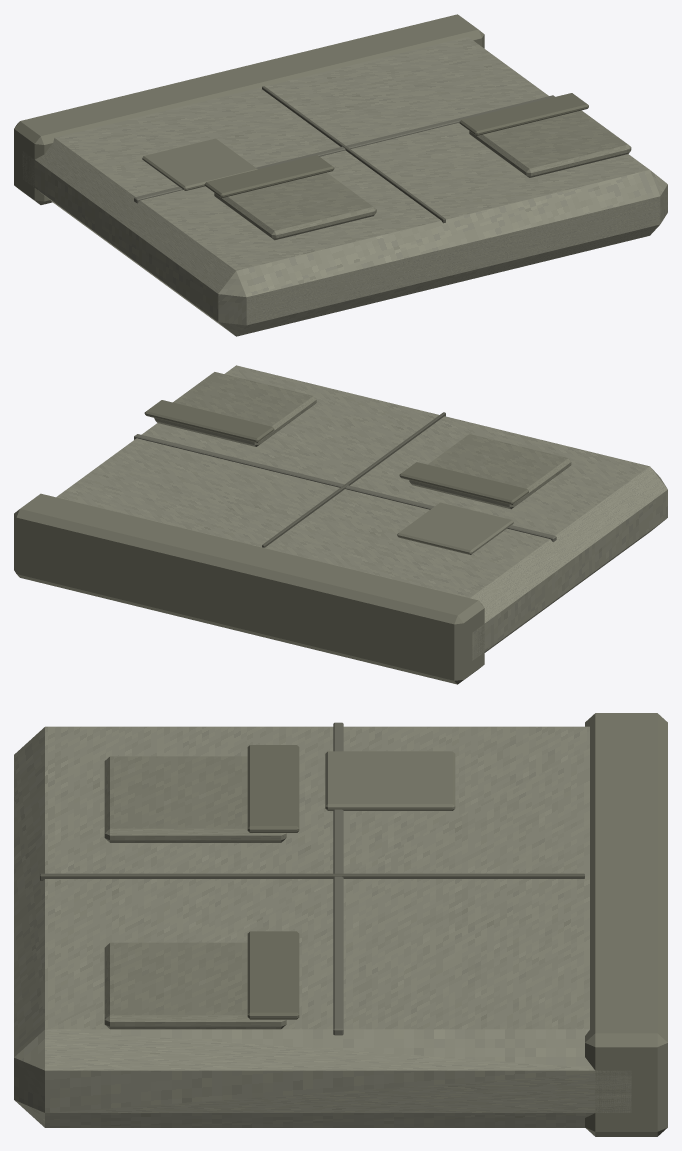
File: shorts_cargo.glb
3 renders of one model, top to bottom at view 1: azimuth 30°, elevation 25°; view 2: azimuth 150°, elevation 25°; view 3: azimuth 270°, elevation 25°, orthographic. The views are drawn at different scales.
Parts seen in each view (by area): view 1: block_body, block_waist, block_cargo-0.1, block_cargo0.07, block_pocket, block_flap-0.1, block_flap0.07, block_fold, block_seam; view 2: block_body, block_waist, block_cargo-0.1, block_cargo0.07, block_pocket, block_flap0.07, block_flap-0.1, block_fold, block_seam; view 3: block_body, block_waist, block_cargo0.07, block_cargo-0.1, block_pocket, block_flap0.07, block_flap-0.1, block_seam, block_fold.
Boxes of the visible parts, x1,y1,x2,y2 form: block_body: [22, 37, 667, 336]; block_waist: [14, 14, 484, 204]; block_cargo-0.1: [214, 172, 376, 240]; block_cargo0.07: [469, 110, 631, 177]; block_pocket: [142, 138, 257, 190]; block_flap-0.1: [204, 155, 334, 197]; block_flap0.07: [459, 93, 588, 135]; block_fold: [134, 95, 554, 203]; block_seam: [262, 86, 445, 223]; block_body: [56, 365, 667, 660]; block_waist: [14, 493, 484, 684]; block_cargo-0.1: [409, 434, 571, 509]; block_cargo0.07: [154, 372, 316, 446]; block_pocket: [397, 502, 513, 554]; block_flap0.07: [144, 400, 274, 442]; block_flap-0.1: [399, 462, 528, 504]; block_fold: [134, 434, 556, 541]; block_seam: [262, 412, 445, 547]; block_body: [14, 726, 631, 1127]; block_waist: [585, 713, 667, 1136]; block_cargo0.07: [104, 942, 286, 1029]; block_cargo-0.1: [104, 756, 286, 842]; block_pocket: [325, 751, 455, 810]; block_flap0.07: [247, 931, 299, 1019]; block_flap-0.1: [247, 745, 299, 832]; block_seam: [40, 873, 584, 880]; block_fold: [333, 722, 343, 1035].
Bounding box in the file's own units: 0.3 × 0.051 × 0.252.
1 material, 1 textured.
